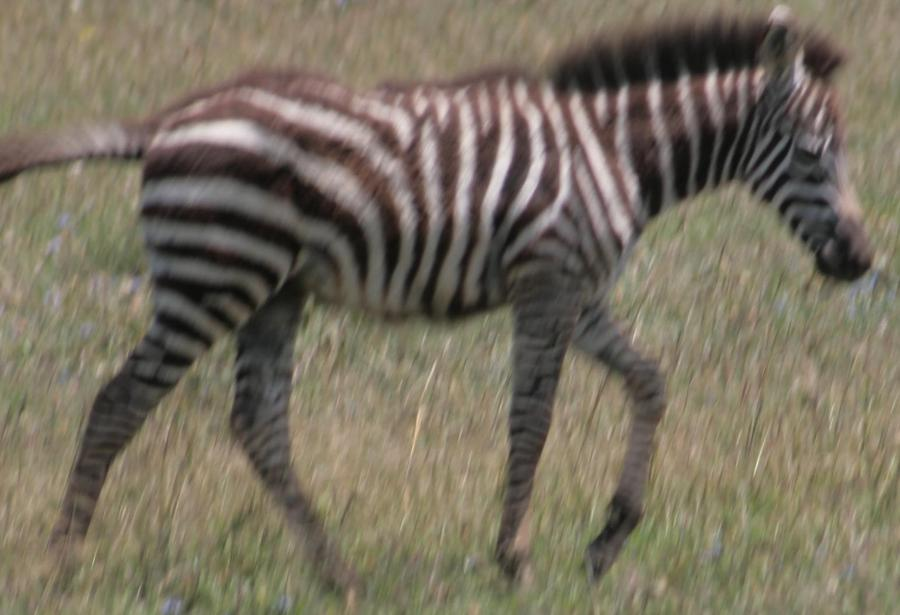zebra_plains: (132, 25, 646, 360)
